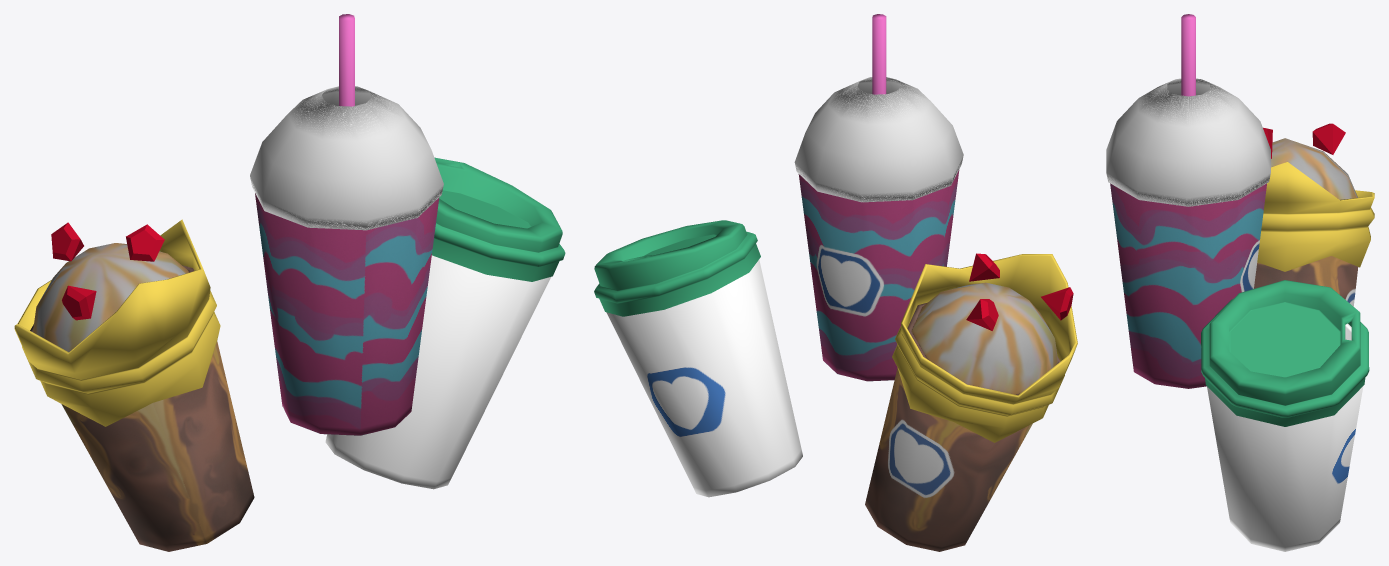
Rendered from 3lu_kahve.fbx.
3 renders of one model, left to right at view 1: azimuth 30°, elevation 25°; view 2: azimuth 150°, elevation 25°; view 3: azimuth 270°, elevation 25°, orthographic. The views are drawn at different scales.
Visible parts, largest first — view 1: Cupofcoffee.001, Cupofcoffee.002, Cupofcoffee, Pembe susulu bardak lid, Lid.002, Lid, Diamond, Pipet; view 2: Cupofcoffee.002, Cupofcoffee, Cupofcoffee.001, Pembe susulu bardak lid, Lid.002, Lid, Diamond, Pipet; view 3: Cupofcoffee.001, Lid, Pembe susulu bardak lid, Cupofcoffee, Lid.002, Cupofcoffee.002, Pipet, Diamond.
Boxes of the visible parts, x1=… form: Cupofcoffee.001: x1=255, y1=193, x2=439, y2=435; Cupofcoffee.002: x1=30, y1=243, x2=254, y2=551; Cupofcoffee: x1=325, y1=255, x2=550, y2=489; Pembe susulu bardak lid: x1=250, y1=86, x2=443, y2=230; Lid.002: x1=14, y1=219, x2=220, y2=426; Lid: x1=432, y1=157, x2=565, y2=281; Diamond: x1=51, y1=222, x2=164, y2=320; Pipet: x1=339, y1=14, x2=354, y2=106; Cupofcoffee.002: x1=865, y1=282, x2=1060, y2=551; Cupofcoffee: x1=606, y1=259, x2=802, y2=497; Cupofcoffee.001: x1=798, y1=170, x2=959, y2=381; Pembe susulu bardak lid: x1=794, y1=77, x2=963, y2=202; Lid.002: x1=892, y1=254, x2=1077, y2=442; Lid: x1=594, y1=220, x2=760, y2=316; Diamond: x1=966, y1=253, x2=1073, y2=330; Pipet: x1=872, y1=14, x2=886, y2=94; Cupofcoffee.001: x1=1110, y1=183, x2=1266, y2=388; Lid: x1=1201, y1=280, x2=1369, y2=426; Pembe susulu bardak lid: x1=1106, y1=78, x2=1270, y2=206; Cupofcoffee: x1=1207, y1=323, x2=1363, y2=551; Lid.002: x1=1257, y1=162, x2=1374, y2=271; Cupofcoffee.002: x1=1254, y1=138, x2=1358, y2=306; Pipet: x1=1181, y1=14, x2=1195, y2=96; Diamond: x1=1263, y1=123, x2=1345, y2=158.
Bounding box in the file's own units: 0.3799 × 0.3603 × 0.1859.
Materials: 9 (3 with a texture image).
